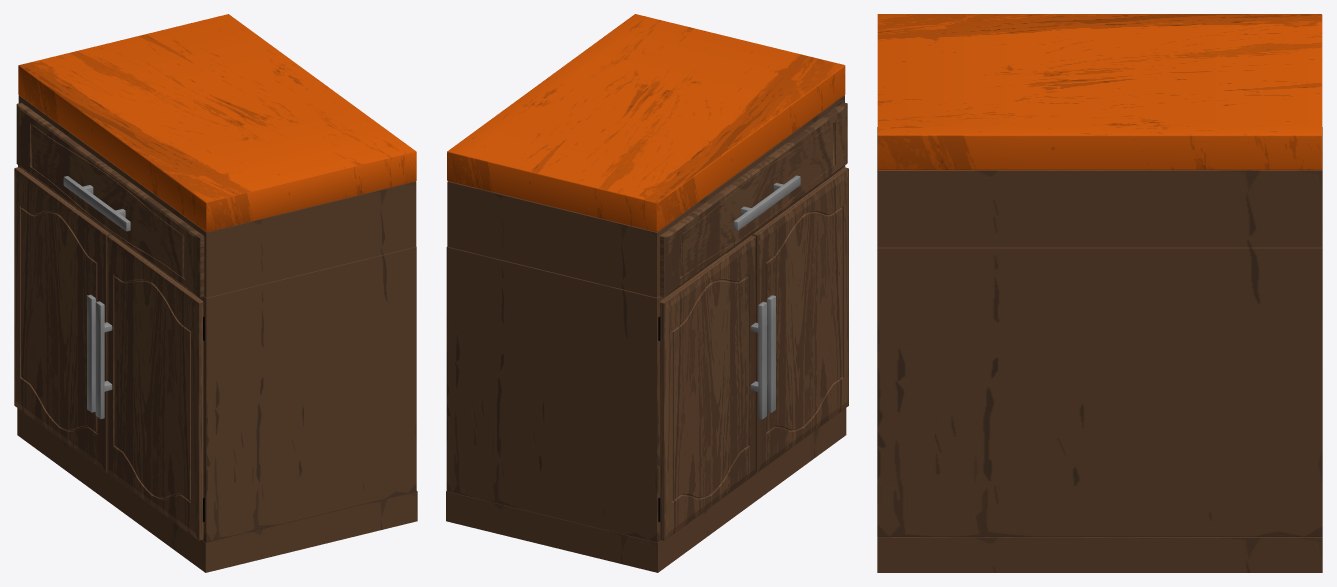
Rendered from bot - cabinet - large.fbx.
The picture shows the model from 3 angles, left to right: view 1: azimuth 30°, elevation 25°; view 2: azimuth 150°, elevation 25°; view 3: azimuth 270°, elevation 25°; orthographic projection. The views are drawn at different scales.
Parts seen in each view (by area): view 1: Top - Cab - Shell, cab - door left, cab - door right, drawer; view 2: Top - Cab - Shell, cab - door right, cab - door left, drawer; view 3: Top - Cab - Shell.
Boxes of the visible parts, x1,y1,x2,y2 form: Top - Cab - Shell: [17, 14, 417, 572]; cab - door left: [95, 235, 203, 540]; cab - door right: [14, 167, 110, 472]; drawer: [16, 103, 204, 297]; Top - Cab - Shell: [446, 14, 846, 572]; cab - door right: [660, 235, 766, 540]; cab - door left: [752, 167, 848, 472]; drawer: [660, 102, 847, 297]; Top - Cab - Shell: [877, 14, 1322, 572].
Bounding box in the file's own units: 105 × 163 × 150.
